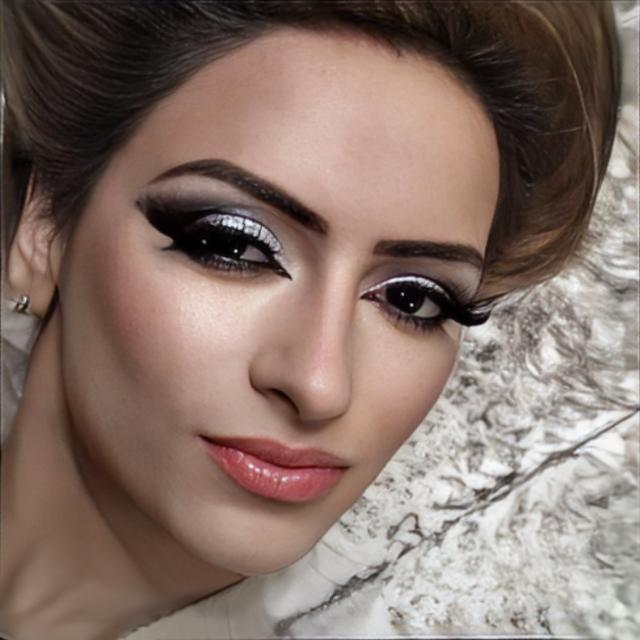content: (59, 27, 503, 580)
